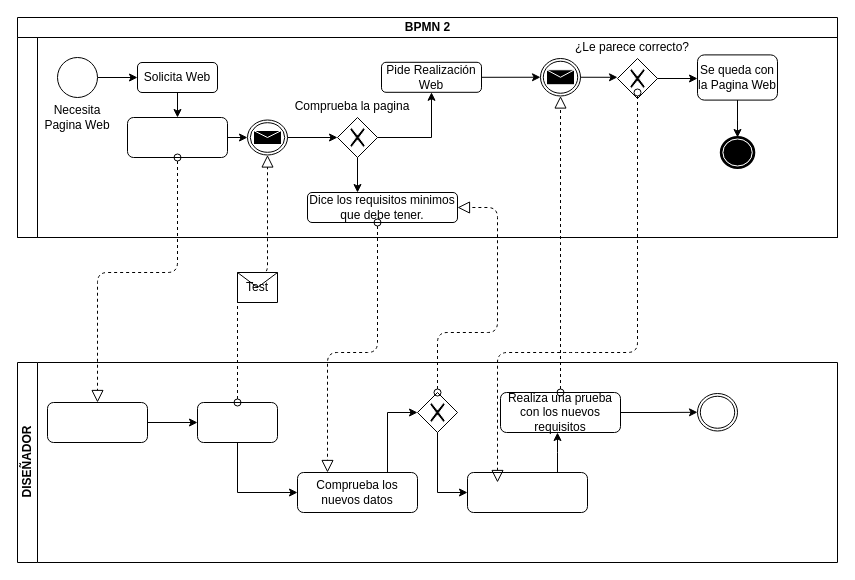
Some shapes in this 855 by 580 pixel diagram are drawn without their labels. Each missing label, with the box of its shape:
CLIENTE: (16, 36, 838, 238)
Da una idea del tipo de pagina: (126, 116, 228, 158)
Plantea un modelo de la idea del cliente: (46, 402, 148, 442)
Realiza una prueba de web: (196, 402, 278, 442)
Realización de la página web: (466, 472, 588, 512)
